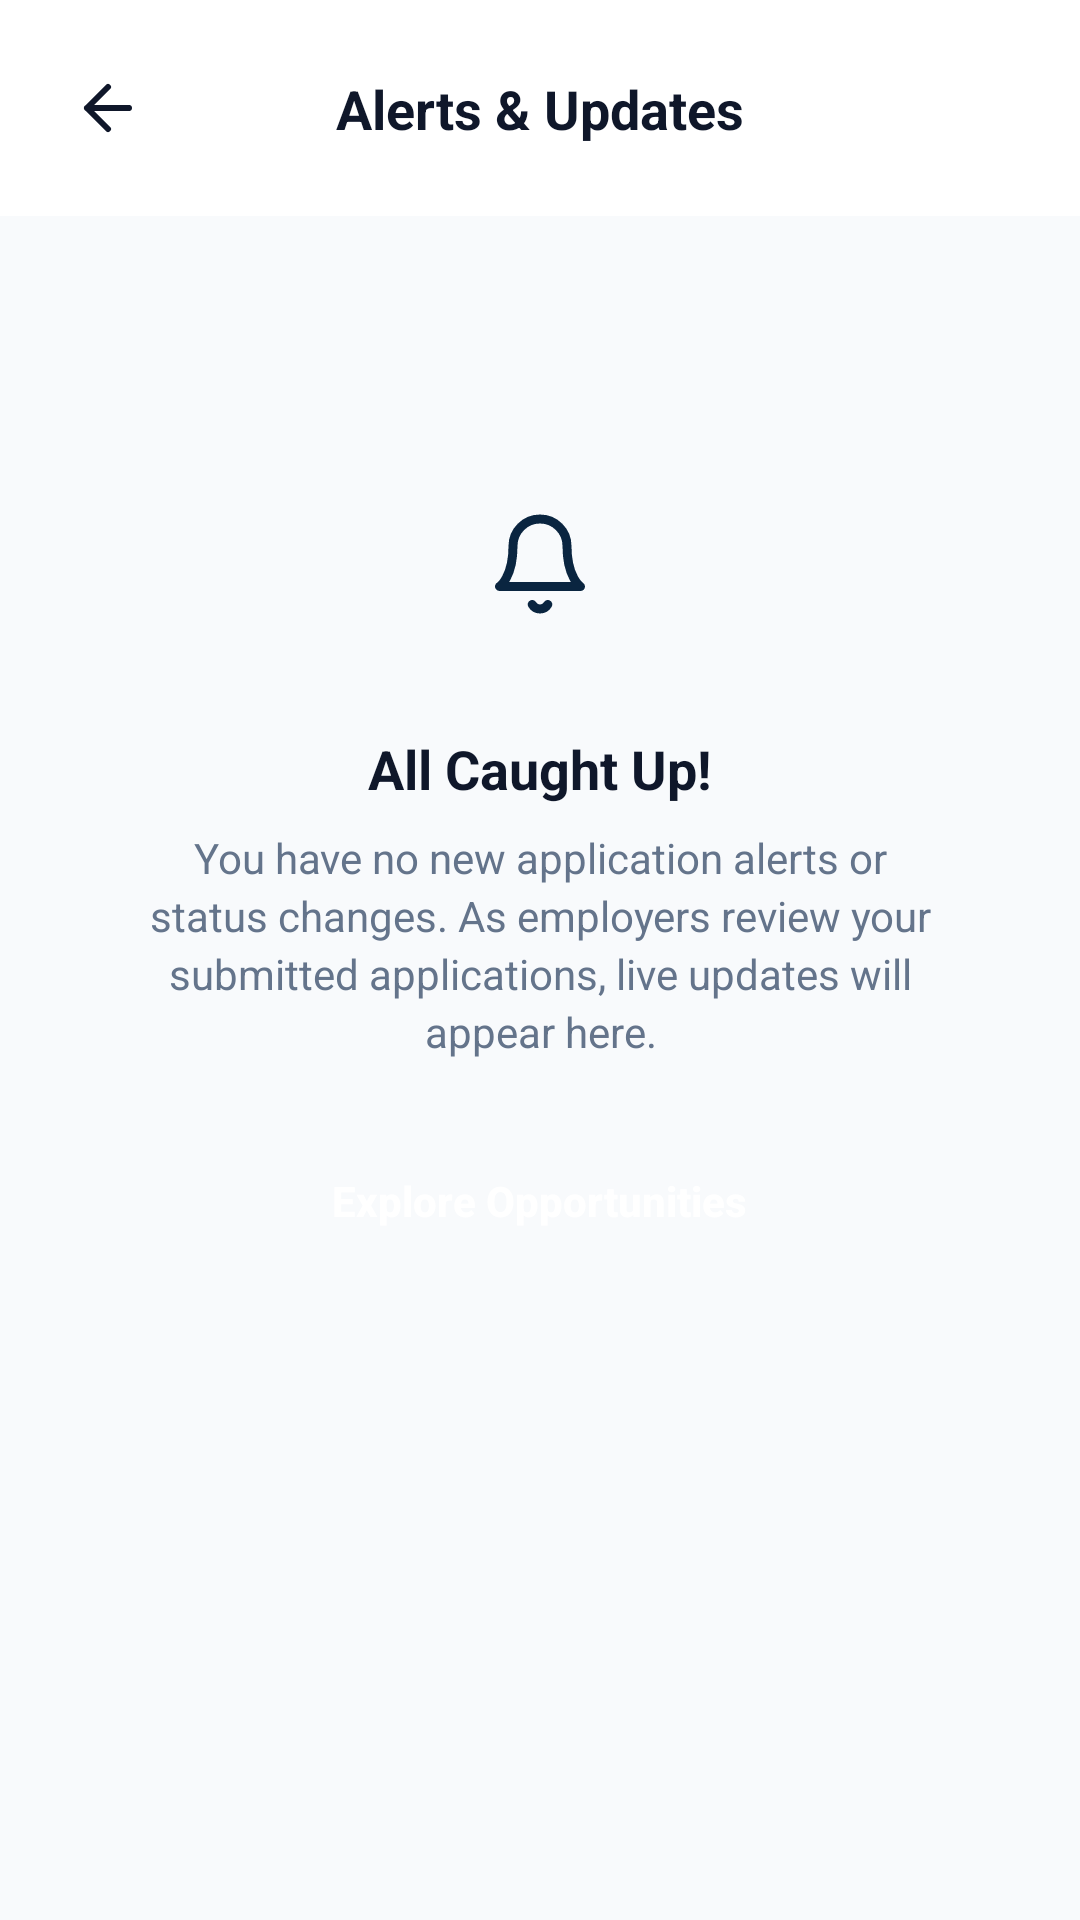

Screen size 1080×1920. Icon name, then its box in pixels as (x1, y1, x2, y2):
Back: (84, 84, 132, 132)
Notifications Icon: (495, 514, 585, 614)
